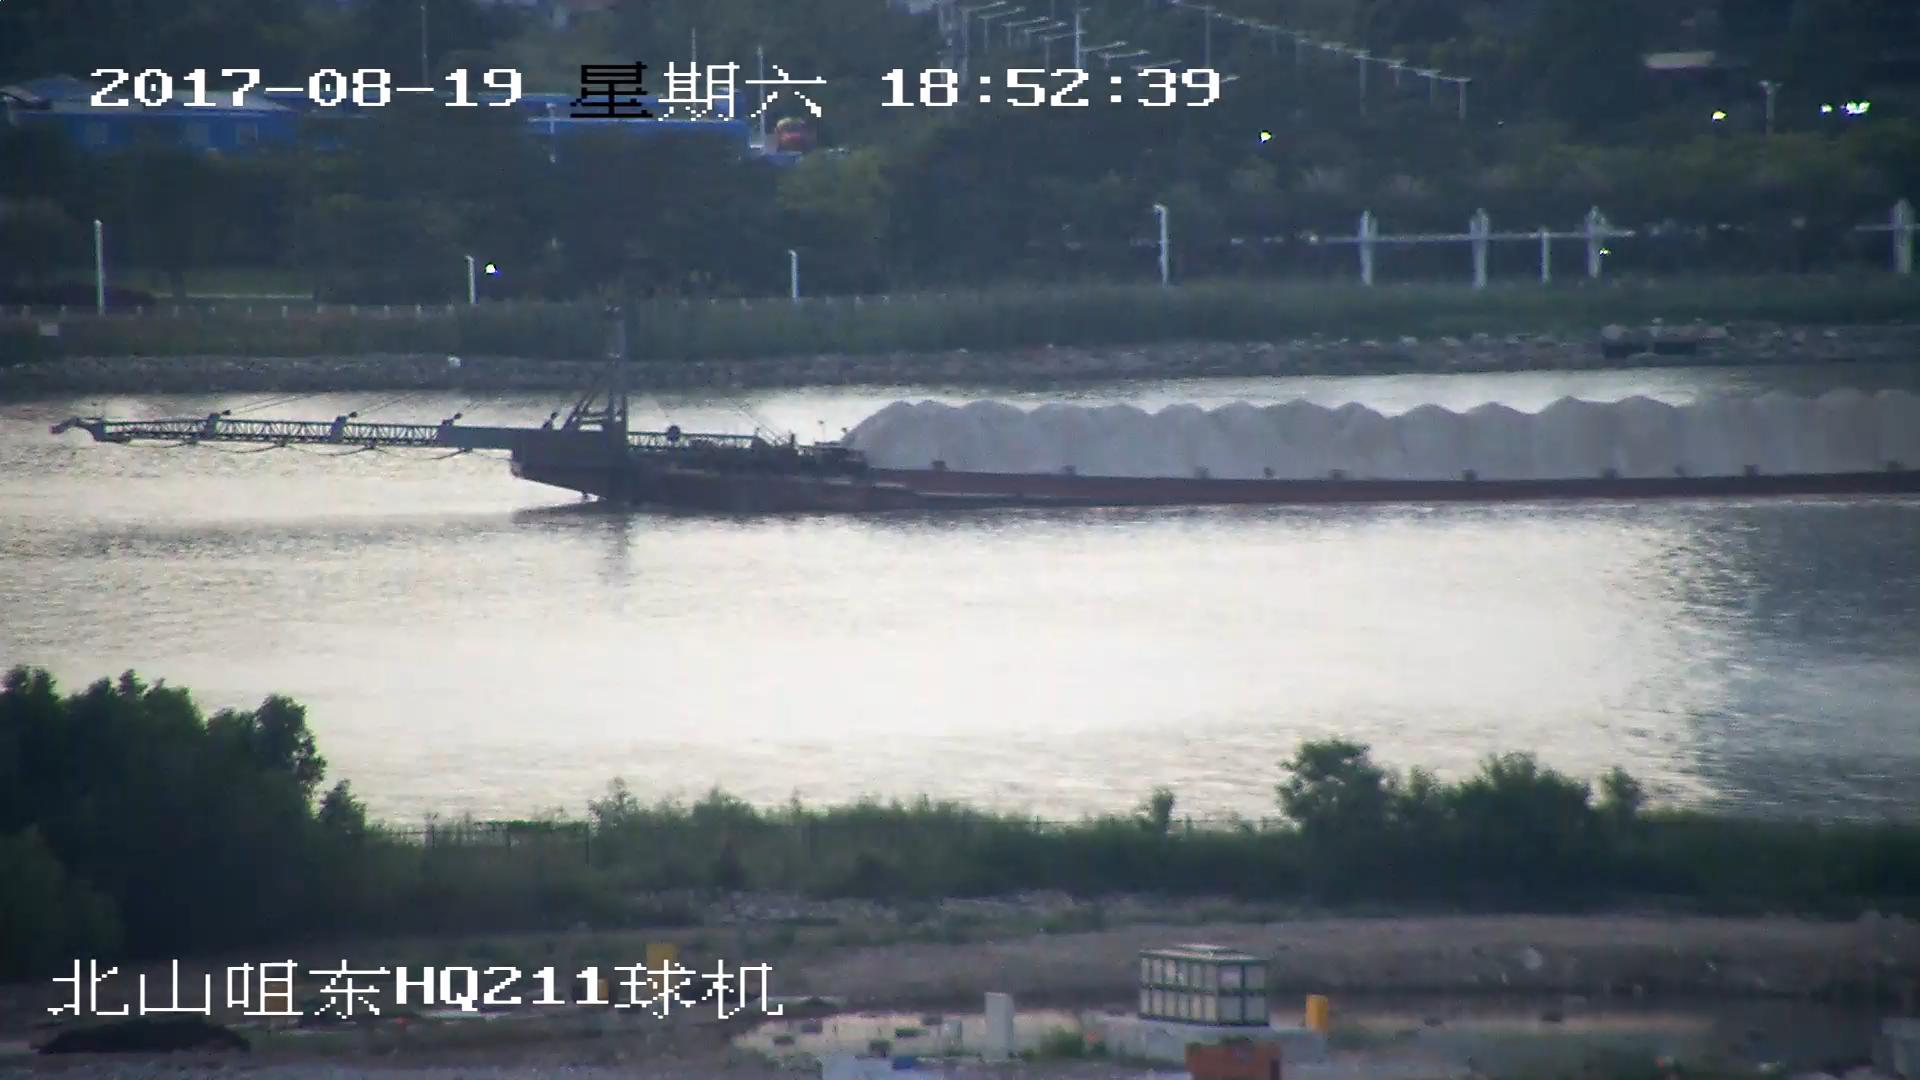Ship: (58, 309, 1920, 516)
